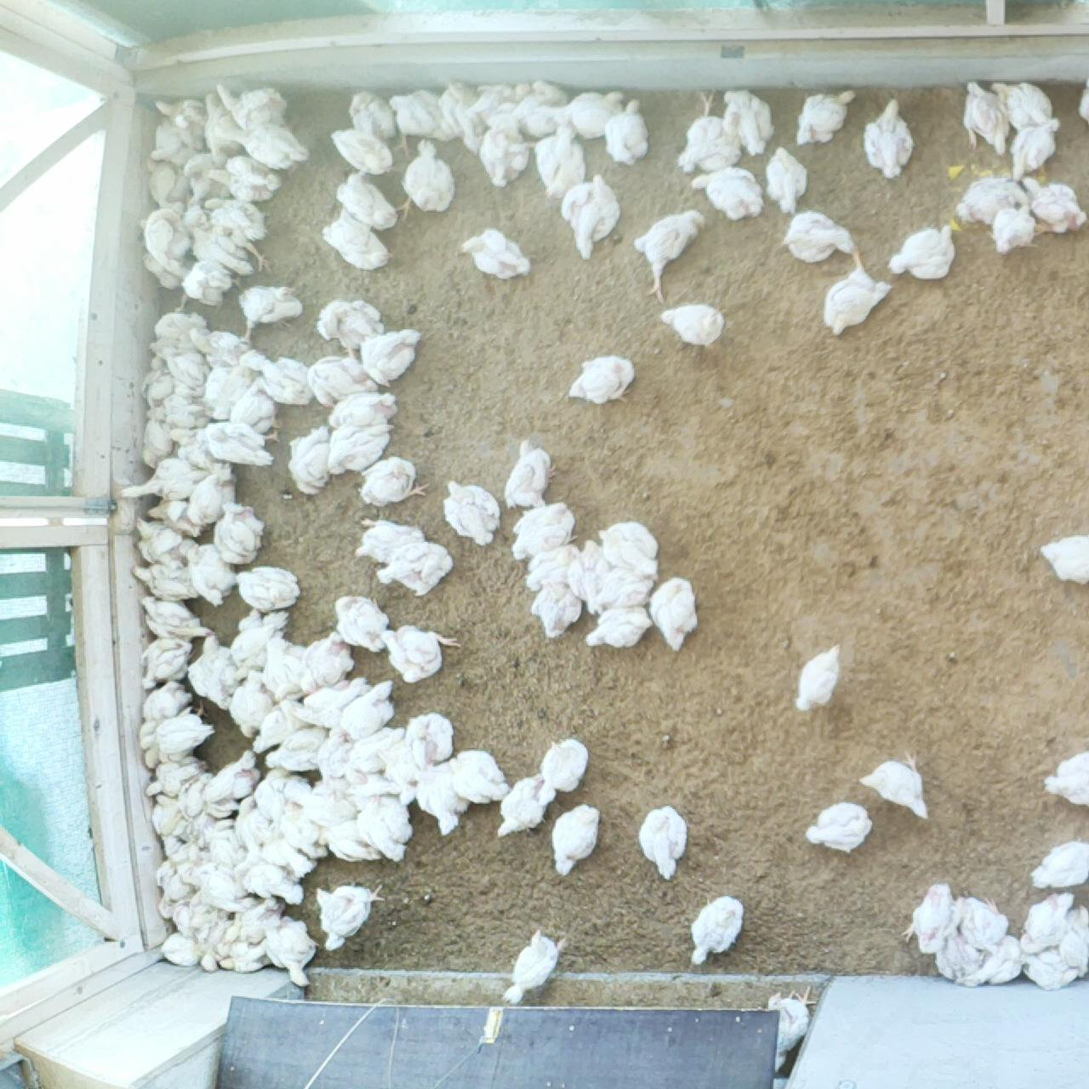chicken: (634, 203, 710, 300), (822, 246, 887, 336), (205, 197, 282, 271), (676, 91, 747, 171), (1016, 170, 1089, 238), (506, 931, 566, 1012), (185, 634, 248, 710), (562, 178, 620, 257), (544, 93, 633, 144), (694, 165, 769, 225), (316, 885, 379, 954), (903, 882, 962, 955), (860, 755, 929, 817), (305, 357, 392, 406), (687, 898, 749, 966), (378, 543, 458, 595), (778, 208, 855, 262), (188, 637, 248, 706), (460, 225, 533, 280), (653, 294, 730, 346), (385, 622, 454, 680), (396, 142, 450, 216), (316, 299, 386, 356), (537, 121, 586, 202), (362, 795, 416, 868), (721, 88, 778, 156), (449, 745, 510, 808), (142, 683, 210, 739), (356, 329, 420, 388), (148, 704, 213, 761), (637, 805, 687, 879), (444, 476, 498, 544), (202, 424, 280, 471), (320, 210, 385, 266), (481, 113, 530, 187), (134, 517, 195, 576), (268, 919, 319, 989), (237, 285, 303, 339), (239, 611, 299, 670), (236, 122, 311, 169), (893, 229, 960, 281), (764, 991, 809, 1068), (808, 804, 874, 856), (514, 76, 573, 134), (865, 101, 910, 177), (227, 566, 303, 611), (253, 352, 316, 406), (144, 753, 214, 801), (302, 631, 356, 693), (140, 596, 211, 643), (331, 174, 396, 225), (334, 592, 388, 653), (565, 356, 635, 403), (151, 310, 214, 362), (356, 518, 430, 562), (515, 502, 572, 559), (418, 758, 460, 835), (995, 83, 1059, 133), (362, 456, 426, 506), (226, 792, 275, 857), (327, 126, 393, 174), (214, 83, 286, 127), (299, 676, 371, 720), (953, 176, 1023, 221), (963, 80, 1006, 153), (342, 684, 394, 744), (761, 145, 806, 214), (539, 739, 589, 801), (597, 522, 660, 571), (199, 366, 255, 421), (144, 156, 197, 214), (322, 425, 385, 473), (258, 700, 317, 751), (526, 543, 589, 590), (797, 89, 847, 148), (607, 100, 653, 164), (496, 775, 542, 839), (1029, 838, 1089, 887), (210, 504, 259, 564), (795, 645, 840, 710), (655, 577, 694, 651), (528, 585, 584, 636), (322, 386, 399, 423), (1024, 894, 1072, 953), (259, 637, 301, 704), (391, 86, 445, 138), (177, 255, 233, 305), (226, 897, 288, 942), (187, 541, 231, 604), (961, 892, 1007, 952), (145, 205, 191, 265), (190, 231, 248, 278), (402, 713, 455, 764), (505, 443, 550, 503), (225, 383, 281, 431), (588, 606, 653, 647), (1011, 117, 1059, 171), (131, 562, 199, 600), (440, 75, 482, 136), (1039, 533, 1089, 584), (210, 752, 263, 800), (244, 860, 301, 904), (292, 430, 328, 499), (555, 812, 596, 872), (196, 465, 237, 525), (349, 90, 398, 140), (1041, 751, 1089, 802), (937, 931, 982, 985), (990, 204, 1035, 258), (165, 425, 220, 469), (190, 327, 248, 368), (157, 94, 206, 142), (139, 635, 189, 681), (982, 939, 1028, 988), (322, 823, 375, 864), (154, 124, 199, 172), (143, 414, 177, 476), (575, 539, 604, 611), (198, 114, 240, 162), (1029, 951, 1082, 989), (229, 669, 256, 738), (470, 81, 520, 118), (155, 927, 200, 968), (137, 362, 178, 406), (1063, 906, 1089, 975), (167, 351, 208, 394), (174, 773, 213, 816), (205, 864, 242, 909), (189, 155, 225, 201), (145, 253, 184, 293), (162, 829, 203, 864), (265, 841, 312, 871), (214, 944, 261, 972), (157, 894, 202, 923), (191, 908, 210, 972), (207, 829, 237, 863), (1080, 78, 1089, 123)
